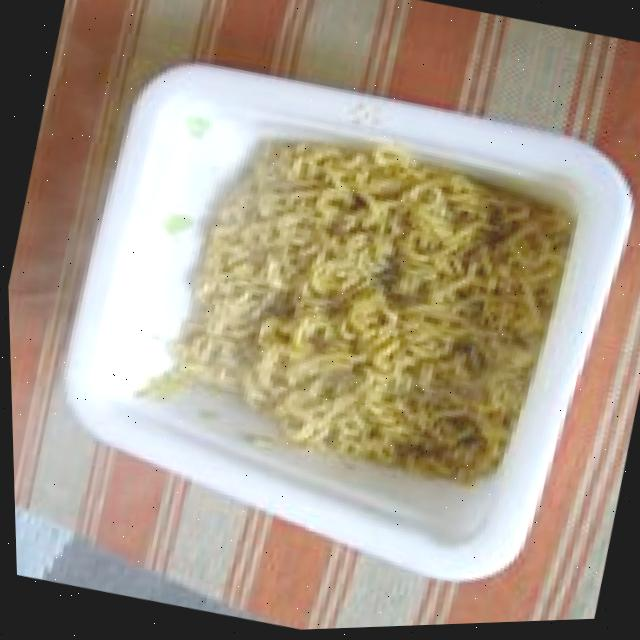面条主食: (1, 12, 640, 621)
